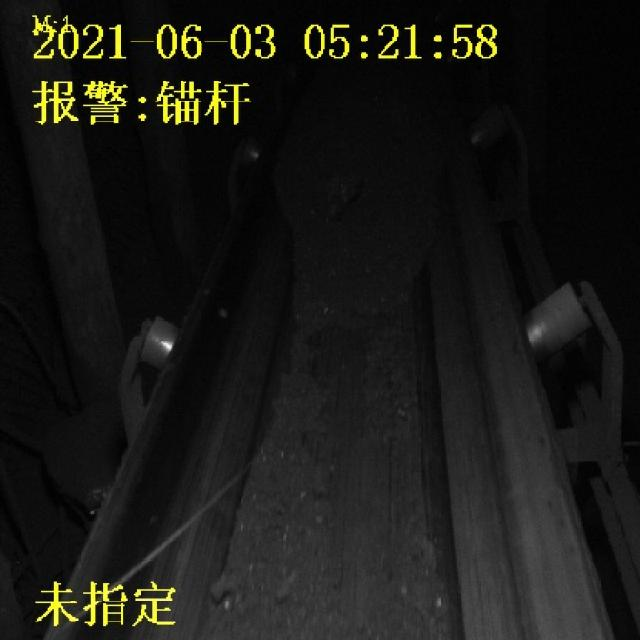bolt: (112, 460, 257, 586)
